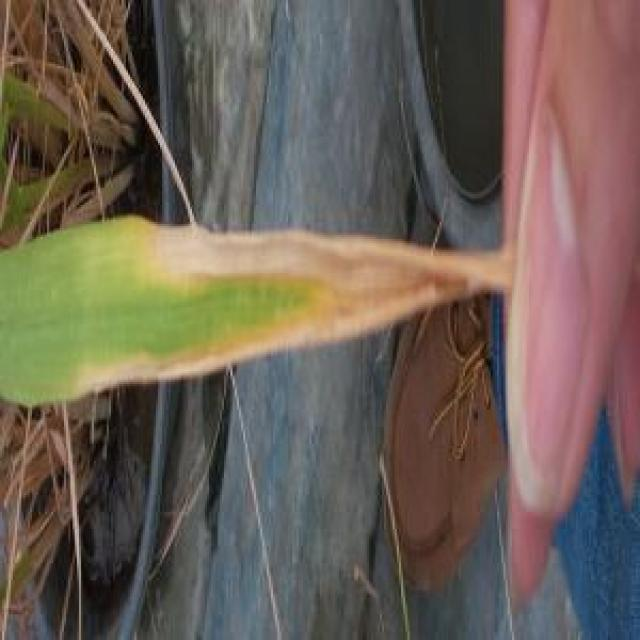leaf blight: (149, 222, 506, 296), (106, 298, 428, 379)
